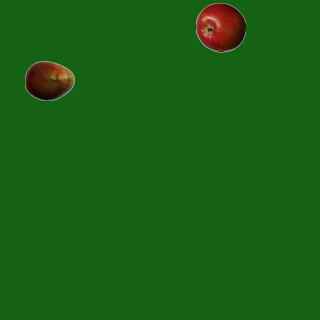Apple Braeburn: (195, 2, 245, 52)
Mango Red: (24, 55, 74, 105)
